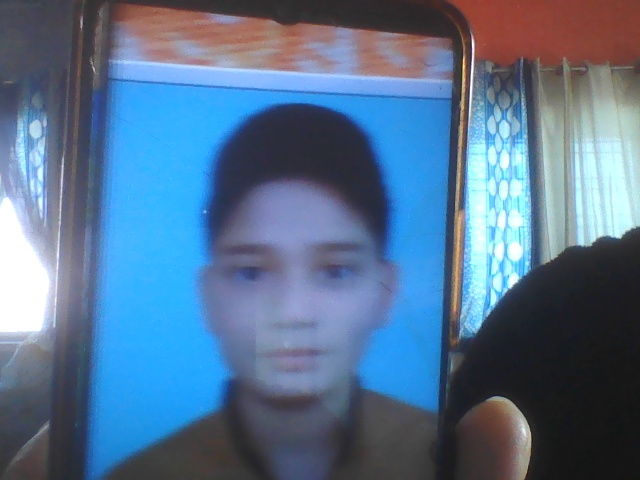fake: (186, 108, 414, 431)
